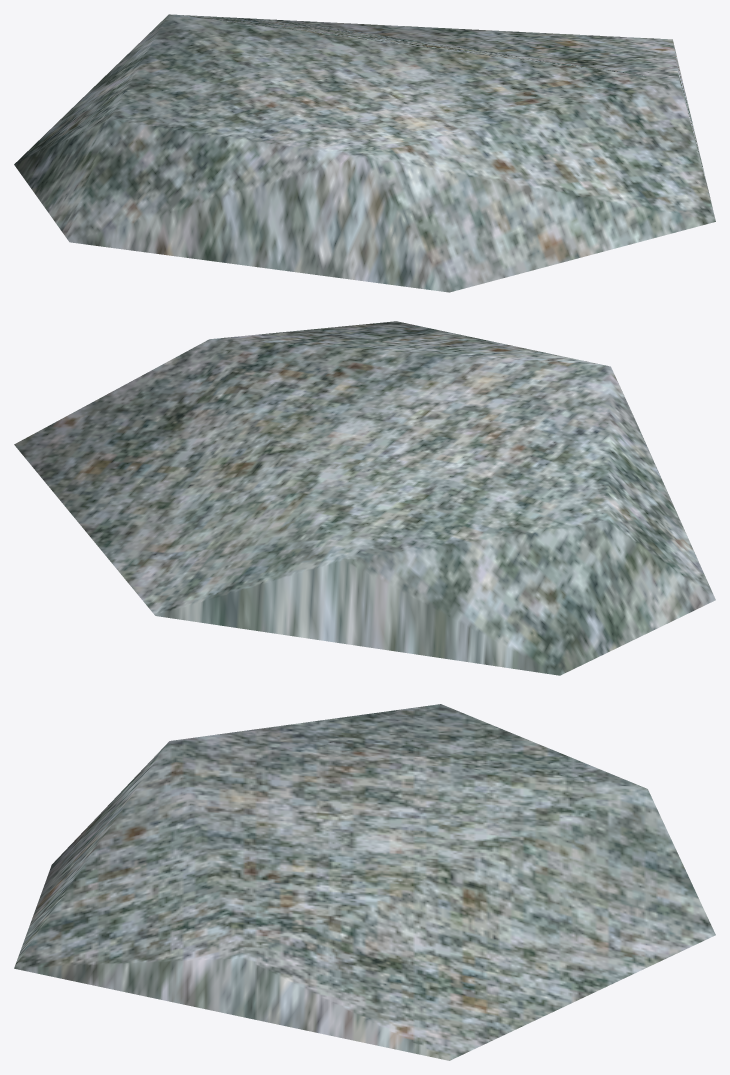
Rendered from rock_graniteslab_small_l2.fbx.
3 views of the same model, one above another, from view 1: azimuth 30°, elevation 25°; view 2: azimuth 150°, elevation 25°; view 3: azimuth 270°, elevation 25° (orthographic). The views are drawn at different scales.
Visible parts, largest first — view 1: mesh_node; view 2: mesh_node; view 3: mesh_node.
Part boxes in pixels (<box>): mesh_node: <box>14,14,715,292</box>; mesh_node: <box>14,321,715,675</box>; mesh_node: <box>14,704,715,1060</box>.
Size of the model in its own units: 1.01 by 0.1736 by 0.9025.
